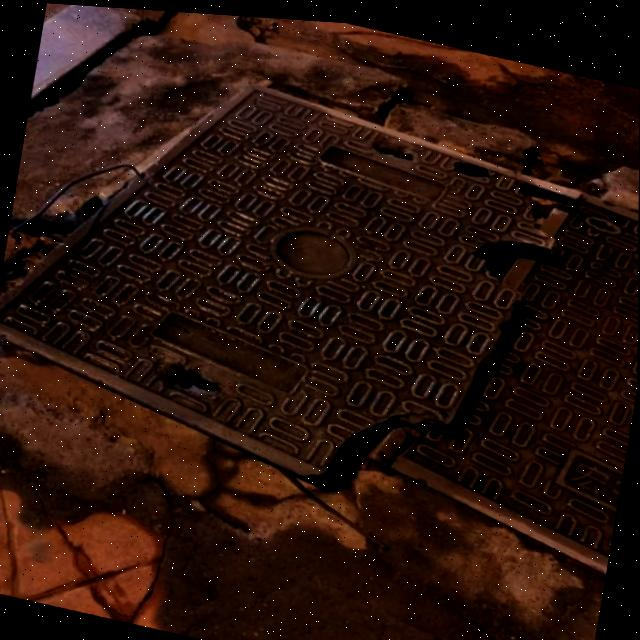manhole: (0, 16, 640, 557)
